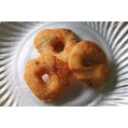vada: (26, 54, 72, 100), (71, 41, 109, 85), (35, 30, 78, 63)
